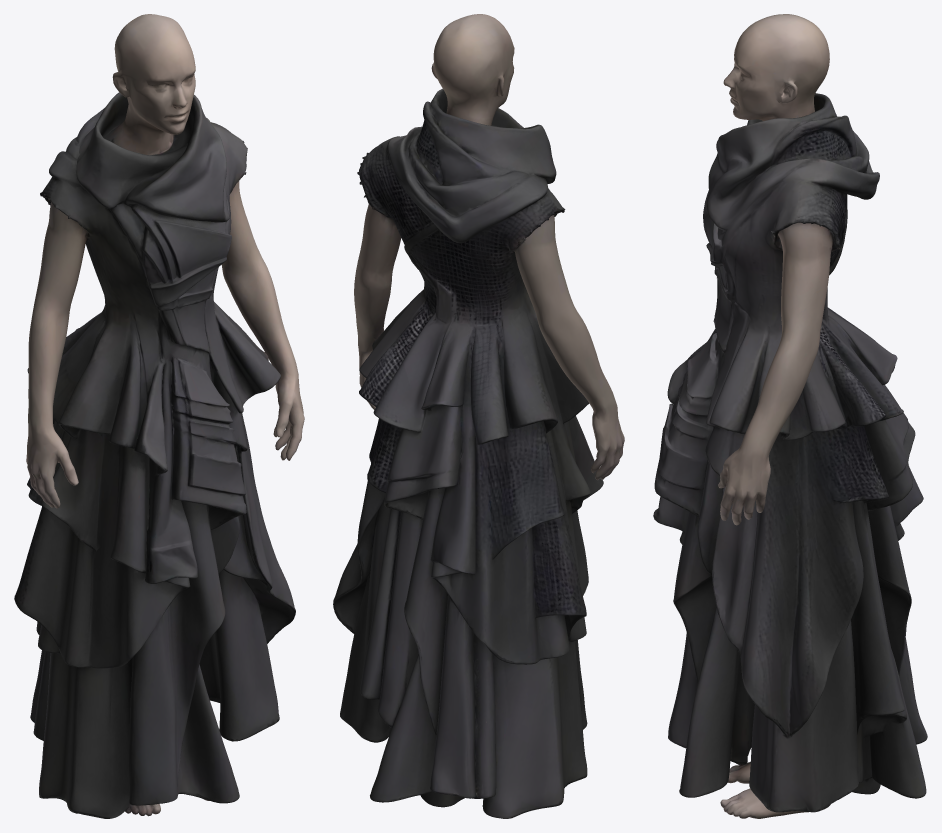
The model's file is knightgowndress.glb.
3 views of the same model, side by side, from view 1: azimuth 30°, elevation 25°; view 2: azimuth 150°, elevation 25°; view 3: azimuth 270°, elevation 25° (orthographic). The views are drawn at different scales.
Parts seen in each view (by area): view 1: knight_gown_node_b34cfdd7-6b2b-49d9-9f0d-cf562a5d3f64; view 2: knight_gown_node_b34cfdd7-6b2b-49d9-9f0d-cf562a5d3f64; view 3: knight_gown_node_b34cfdd7-6b2b-49d9-9f0d-cf562a5d3f64.
Part boxes in pixels (x1=…): knight_gown_node_b34cfdd7-6b2b-49d9-9f0d-cf562a5d3f64: x1=14, y1=14, x2=304, y2=818; knight_gown_node_b34cfdd7-6b2b-49d9-9f0d-cf562a5d3f64: x1=333, y1=14, x2=624, y2=818; knight_gown_node_b34cfdd7-6b2b-49d9-9f0d-cf562a5d3f64: x1=653, y1=14, x2=927, y2=818.
Size of the model in its own units: 0.353 by 0.9785 by 0.3122.
Materials: 1 (1 with a texture image).
